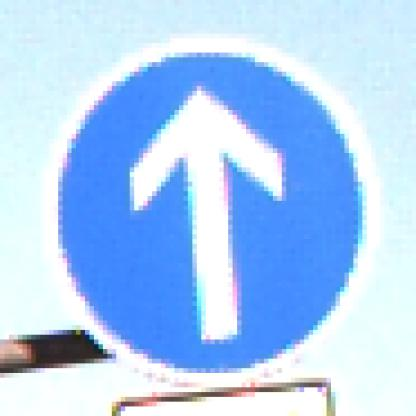AheadOnly: (41, 35, 381, 384)
